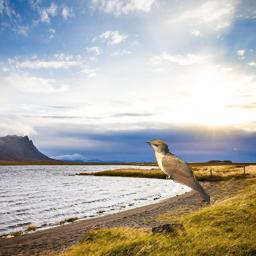Cuckoo: (145, 139, 210, 204)
